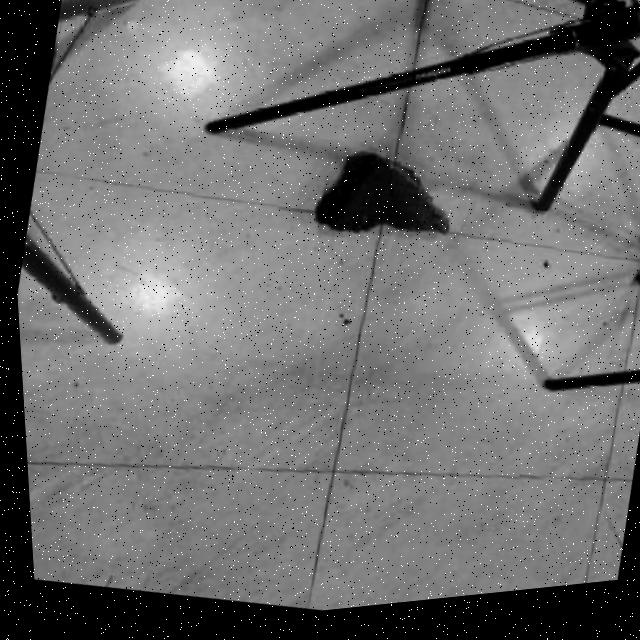Road Debris: (304, 146, 414, 255)
